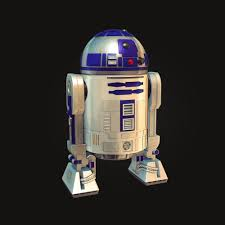r2d2: (62, 29, 169, 196)
